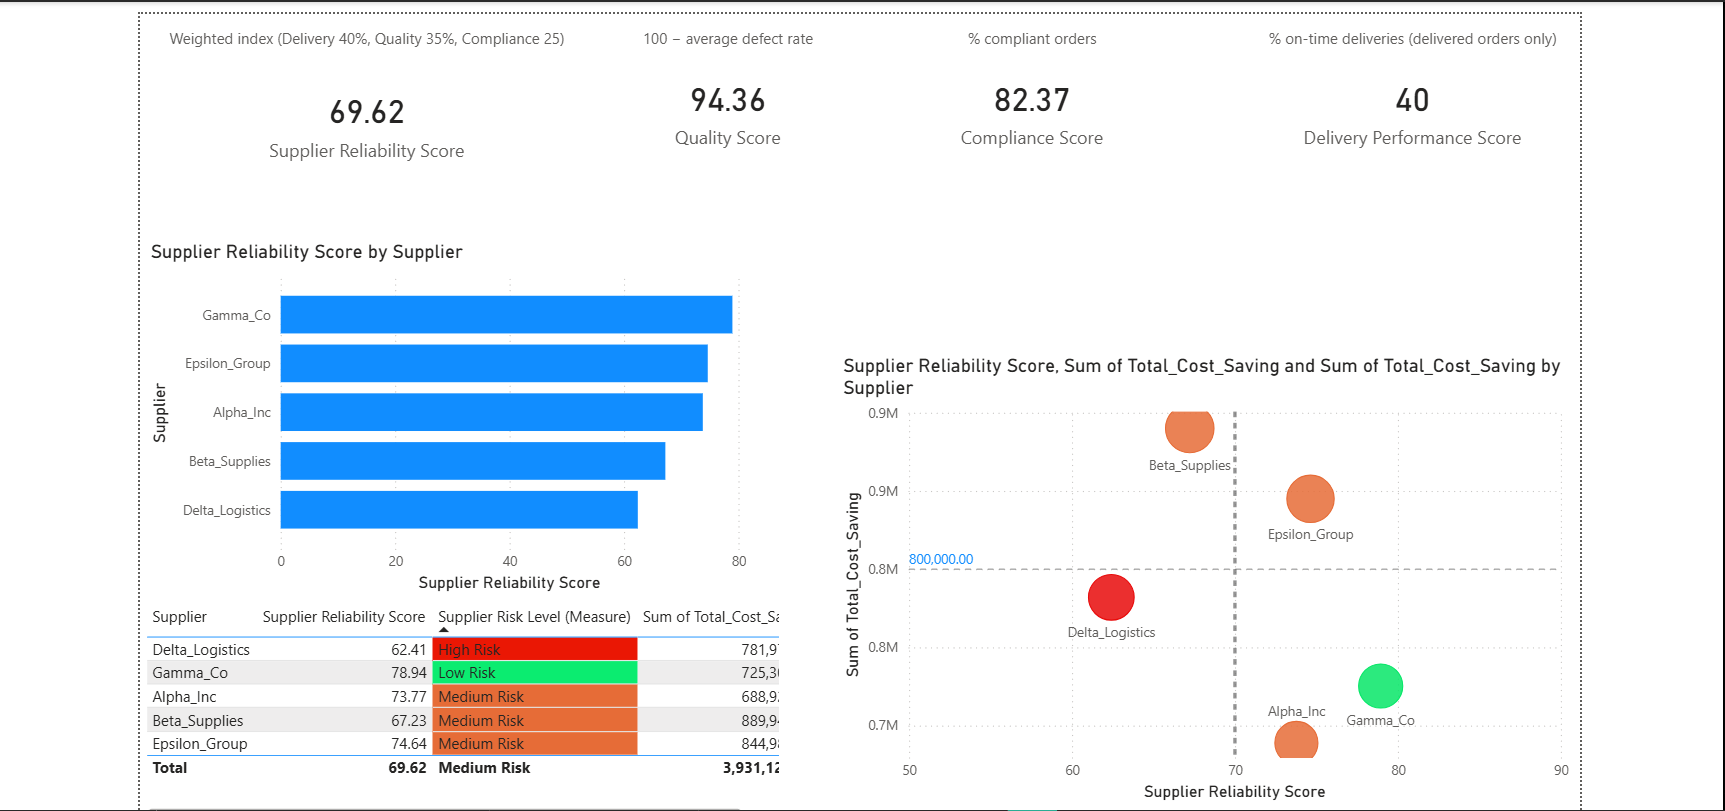

What the dashboard file says about the page in this screenshot:
{"tool":"powerbi","page":{"name":"Supplier Overview & Risk–Value Trade-off","canvas":[1280,720],"ordinal":0},"visuals":[{"type":"clusteredBarChart","fields":{"Category":["Sheet1.Supplier"],"Y":["Sheet1.Supplier Reliability Score"]},"box":[4.5,200.9,539.7,317.8],"z":0},{"type":"card","fields":{"Values":["Sheet1.Supplier Reliability Score"]},"box":[21,7.5,361.3,152.9],"z":1000},{"type":"card","fields":{"Values":["Sheet1.Delivery Performance Score"]},"box":[997.1,7.5,269.3,130.3],"z":2000},{"type":"card","fields":{"Values":["Sheet1.Quality Score"]},"box":[388.3,7.5,269.9,130.4],"z":3000},{"type":"card","fields":{"Values":["Sheet1.Compliance Score"]},"box":[657.7,7.5,270.6,130.3],"z":4000},{"type":"tableEx","fields":{"Values":["Sheet1.Supplier","Sheet1.Supplier Reliability Score","Sheet1.Supplier Risk Level","Sum(Sheet1.Total_Cost_Saving)"]},"box":[0,520.2,572.7,199.4],"z":5000},{"type":"scatterChart","fields":{"X":["Sheet1.Supplier Reliability Score"],"Y":["Sum(Sheet1.Total_Cost_Saving)"],"Size":["Sum(Sheet1.Total_Cost_Saving)"],"Category":["Sheet1.Supplier"]},"box":[620.1,301.9,655.2,402.1],"z":6000}]}

Visuals, with their boxes on the page's 1280x720 design canvas (x1, y1, x2, y2). These are canvas units, not pixel positions in the 1725x811 screenshot, which may show the page scaled, cropped or inside an application window:
clusteredBarChart - Sheet1.Supplier x Sheet1.Supplier Reliability Score: box=[4, 201, 544, 519]
card - Sheet1.Supplier Reliability Score: box=[21, 8, 382, 160]
card - Sheet1.Delivery Performance Score: box=[997, 8, 1266, 138]
card - Sheet1.Quality Score: box=[388, 8, 658, 138]
card - Sheet1.Compliance Score: box=[658, 8, 928, 138]
tableEx - Sheet1.Supplier x Sheet1.Supplier Reliability Score: box=[0, 520, 573, 720]
scatterChart - Sheet1.Supplier Reliability Score x Sum(Sheet1.Total_Cost_Saving): box=[620, 302, 1275, 704]
